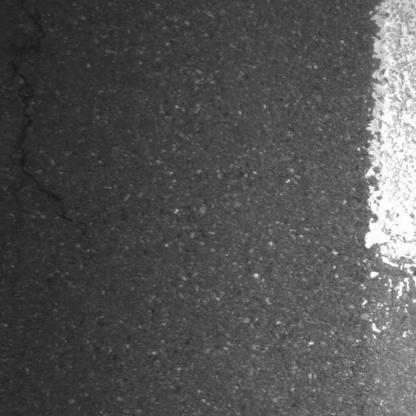Cracks: (5, 0, 96, 240)
